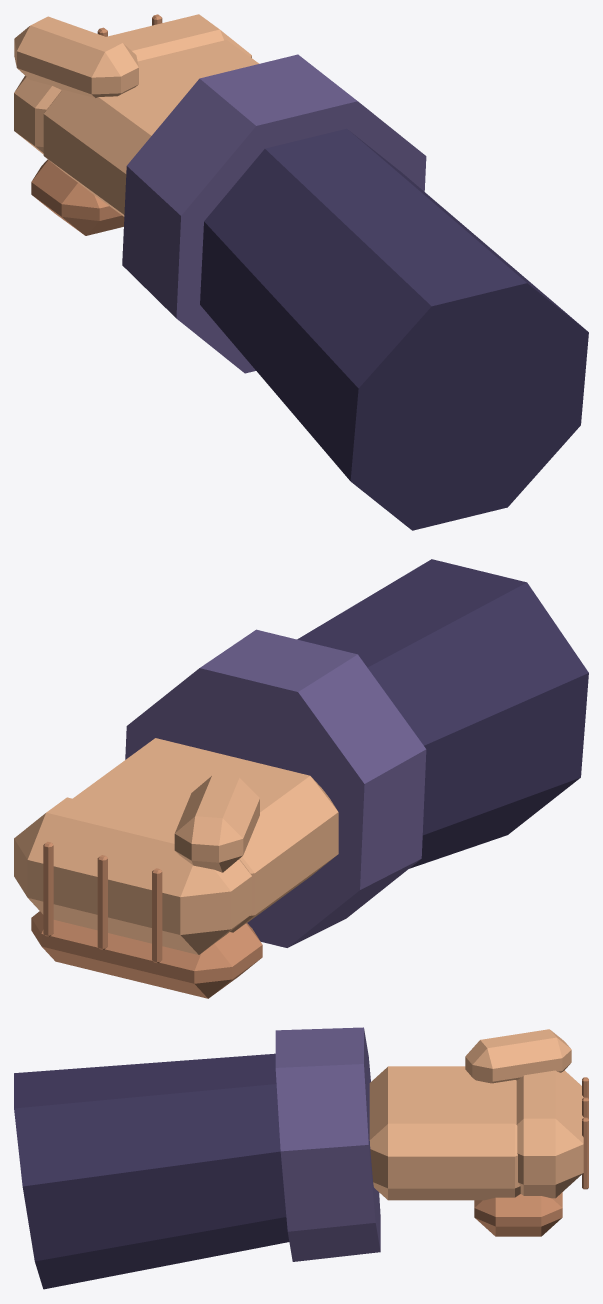
The model's file is pugno.glb.
3 renders of one model, top to bottom at view 1: azimuth 30°, elevation 25°; view 2: azimuth 150°, elevation 25°; view 3: azimuth 270°, elevation 25°, orthographic. The views are drawn at different scales.
Visible parts, largest first — view 1: pugno2; view 2: pugno2; view 3: pugno2.
Boxes of the visible parts, bbox=[...] form: pugno2: bbox=[14, 14, 588, 530]; pugno2: bbox=[14, 559, 588, 998]; pugno2: bbox=[14, 1027, 588, 1289].
Bounding box in the file's own units: 0.122 × 0.1416 × 0.3263.
